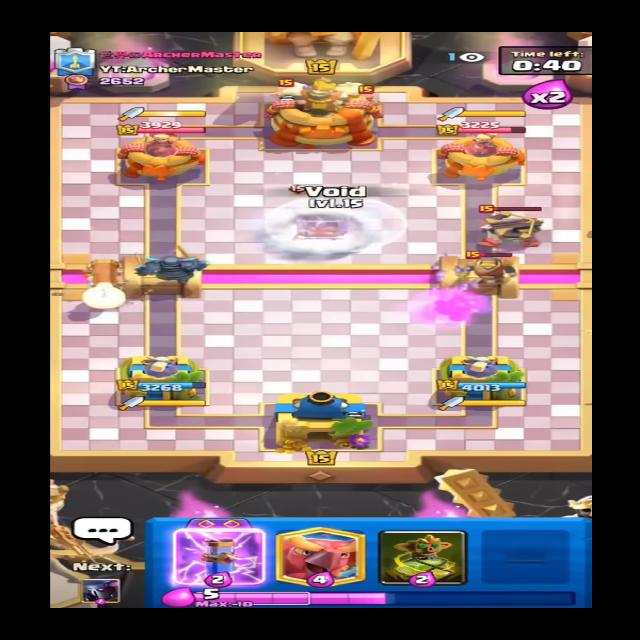archer: (352, 87, 388, 109)
knight: (454, 246, 524, 284)
x-bow: (461, 200, 557, 253)
